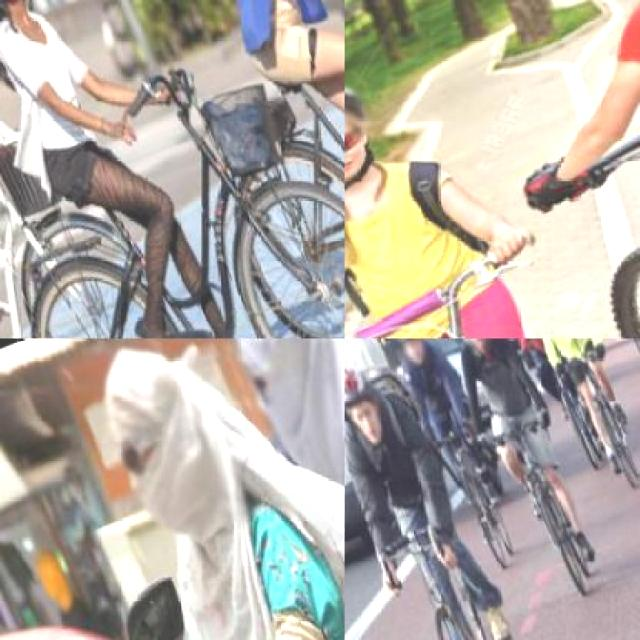With Helmet: (345, 358, 397, 449), (345, 56, 380, 176), (383, 338, 437, 374), (446, 338, 500, 357)
Without Helmet: (66, 338, 268, 558), (211, 338, 343, 457)
